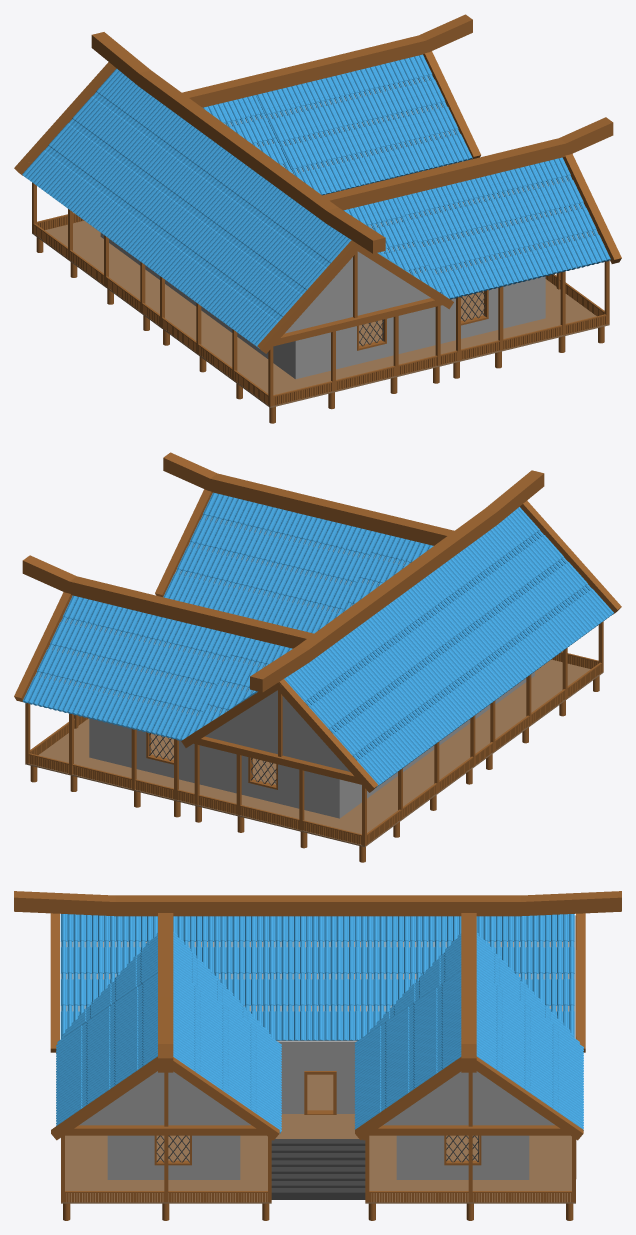
The model's file is japán2.fbx.
3 renders of one model, top to bottom at view 1: azimuth 30°, elevation 25°; view 2: azimuth 150°, elevation 25°; view 3: azimuth 270°, elevation 25°, orthographic. The views are drawn at different scales.
Parts seen in each view (by area): view 1: roofb, Circle.009, Circle.007, floor, wall, Cube.013, Cube.028, Cube.021, roof.002, Circle.008, Cube.009, Circle.010 (+10 smaller); view 2: roofb, Circle.002, Circle.005, floor, wall, Cube.013, Cube.021, Cube.028, roof.002, Circle.004, Cube.011, Circle.006 (+9 smaller); view 3: Circle.003, floor, wall, Cube.013, Circle.005, Circle.009, Circle.002, Circle.007, roof.001, roof, Cube.021, Cube.028 (+24 smaller).
Boxes of the visible parts, <box> form: roofb: <box>22,68,351,348</box>; Circle.009: <box>256,54,472,195</box>; Circle.007: <box>397,157,610,299</box>; floor: <box>32,220,609,407</box>; wall: <box>100,233,545,379</box>; Cube.013: <box>91,32,385,253</box>; Cube.028: <box>322,117,613,210</box>; Cube.021: <box>182,14,472,107</box>; roof.002: <box>285,251,430,333</box>; Circle.008: <box>343,197,441,292</box>; Cube.009: <box>273,316,606,405</box>; Circle.010: <box>202,95,293,174</box>; roofb: <box>284,507,613,787</box>; Circle.002: <box>22,595,239,740</box>; Circle.005: <box>163,492,379,633</box>; floor: <box>25,659,603,847</box>; wall: <box>89,672,534,818</box>; Cube.013: <box>250,470,544,692</box>; Cube.021: <box>22,555,313,648</box>; Cube.028: <box>163,452,454,545</box>; roof.002: <box>205,690,350,771</box>; Circle.004: <box>194,636,292,731</box>; Cube.011: <box>28,755,361,844</box>; Circle.006: <box>342,533,433,612</box>; Circle.003: <box>60,914,574,1040</box>; floor: <box>61,1074,575,1203</box>; wall: <box>107,1043,529,1179</box>; Cube.013: <box>14,891,621,916</box>; Circle.005: <box>173,970,281,1133</box>; Circle.009: <box>354,971,461,1129</box>; Circle.002: <box>476,971,583,1130</box>; Circle.007: <box>56,973,157,1125</box>; roof.001: <box>383,1071,554,1125</box>; roof: <box>79,1071,250,1125</box>; Cube.021: <box>461,913,476,1072</box>; Cube.028: <box>158,913,173,1072</box>.
Bounding box in the file's own units: 4835 × 2145 × 5871.
